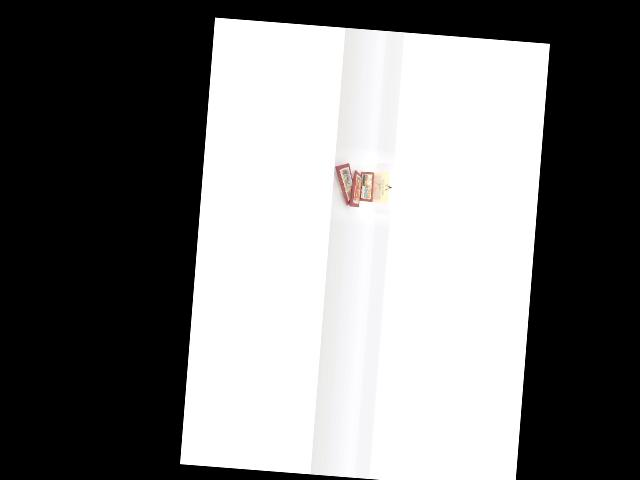chocolate: (329, 153, 357, 208)
